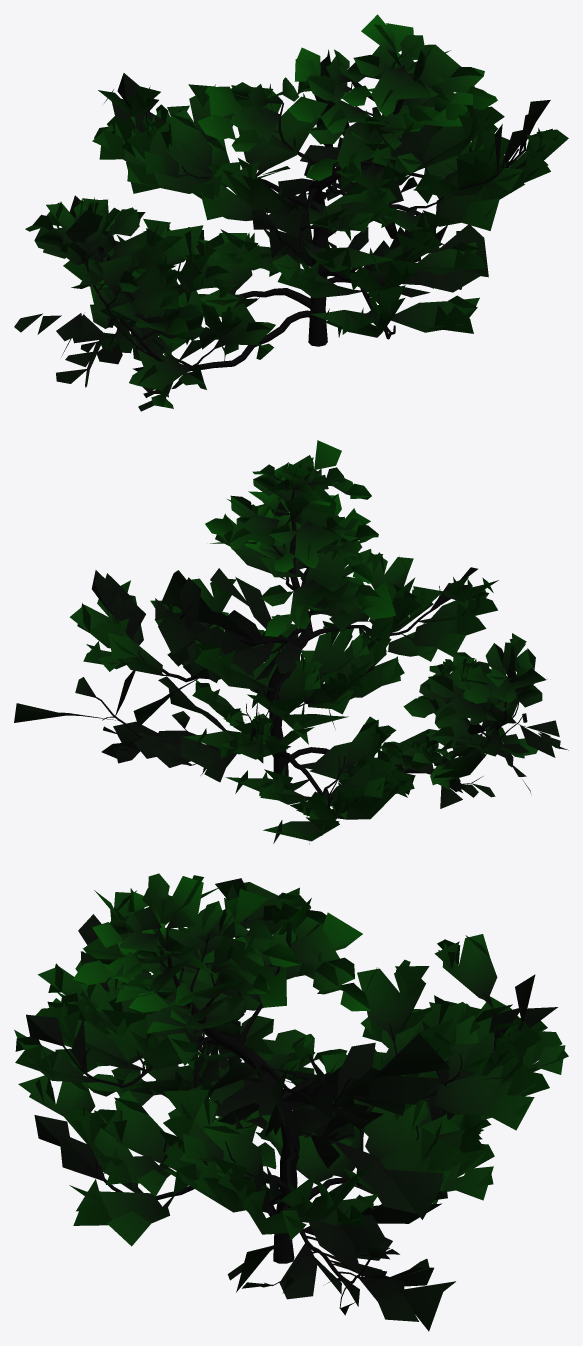
File: Pine_beach_medium_03.fbx
3 views of the same model, one above another, from view 1: azimuth 30°, elevation 25°; view 2: azimuth 150°, elevation 25°; view 3: azimuth 270°, elevation 25° (orthographic). The views are drawn at different scales.
Visible parts, largest first — view 1: pine_beach_medium_03_LOD0; view 2: pine_beach_medium_03_LOD0; view 3: pine_beach_medium_03_LOD0.
Boxes of the visible parts, x1=… form: pine_beach_medium_03_LOD0: x1=14, y1=14, x2=568, y2=411; pine_beach_medium_03_LOD0: x1=14, y1=440, x2=568, y2=844; pine_beach_medium_03_LOD0: x1=14, y1=873, x2=568, y2=1331.
Size of what is drawn, in the model's own units: 462 by 269 by 341.
